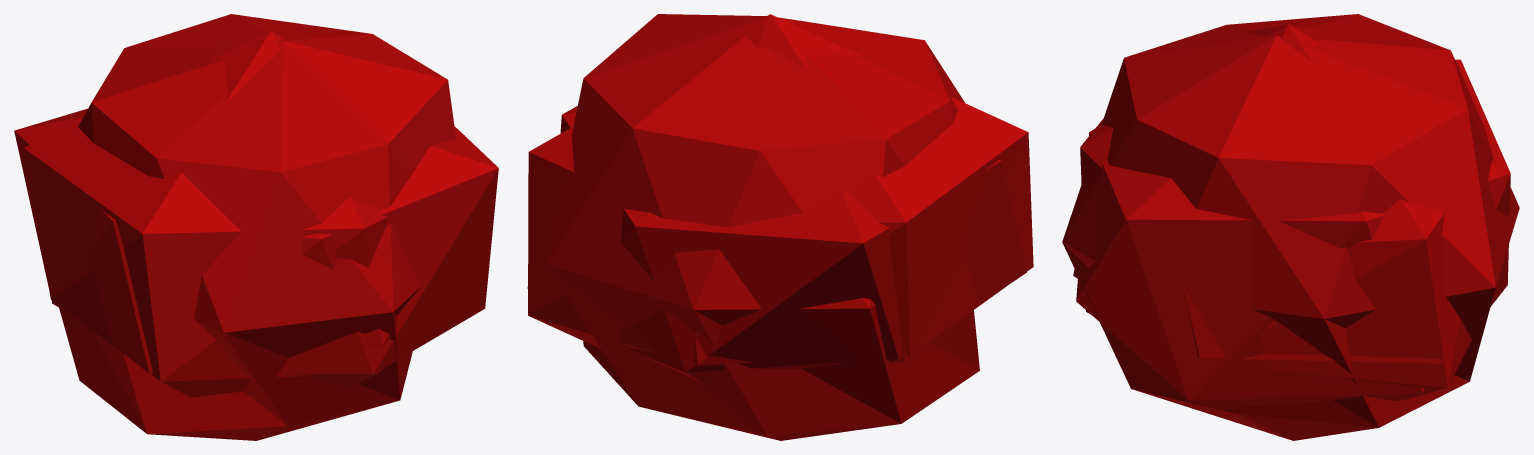
File: erratic.glb
3 views of the same model, side by side, from view 1: azimuth 30°, elevation 25°; view 2: azimuth 150°, elevation 25°; view 3: azimuth 270°, elevation 25° (orthographic). The views are drawn at different scales.
Visible parts, largest first — view 1: v3, v0, v2; view 2: v3, v2, v0; view 3: v3, v2, v0, v1.
Part boxes in pixels (x1=…): v3: x1=59, y1=14, x2=455, y2=440; v0: x1=24, y1=30, x2=387, y2=397; v2: x1=14, y1=108, x2=498, y2=386; v3: x1=546, y1=14, x2=979, y2=440; v2: x1=560, y1=106, x2=1026, y2=383; v0: x1=528, y1=14, x2=1033, y2=366; v3: x1=1062, y1=14, x2=1519, y2=440; v2: x1=1076, y1=59, x2=1510, y2=410; v0: x1=1080, y1=24, x2=1471, y2=399; v1: x1=1073, y1=269, x2=1443, y2=363.
Bounding box in the file's own units: 1.76 × 1.83 × 1.79.
